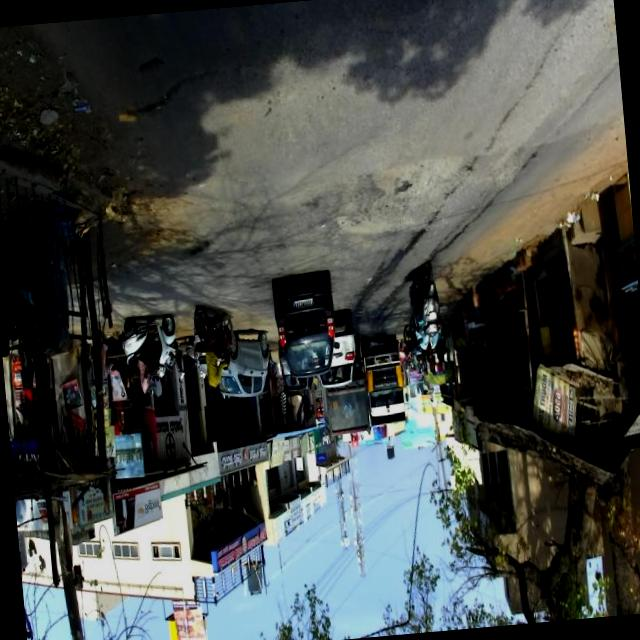pothole: (312, 132, 465, 258), (458, 79, 554, 233), (110, 19, 196, 127), (149, 176, 218, 280)
